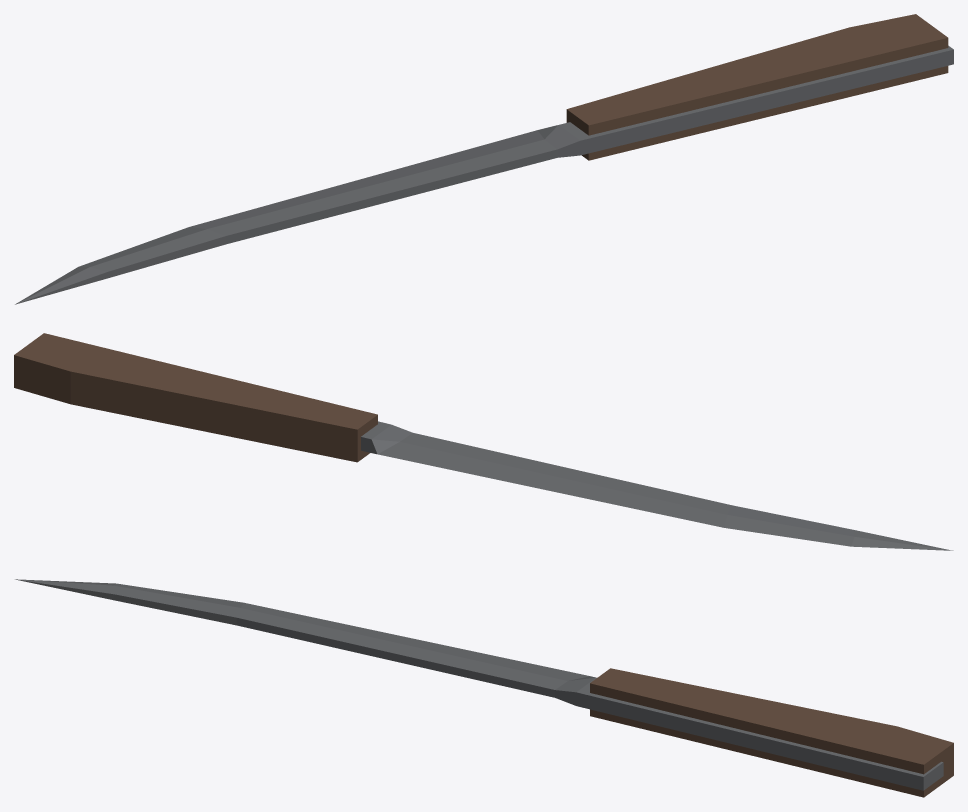
Rendered from filletKnife.fbx.
3 renders of one model, top to bottom at view 1: azimuth 30°, elevation 25°; view 2: azimuth 150°, elevation 25°; view 3: azimuth 330°, elevation 25°, orthographic. The views are drawn at different scales.
Visible parts, largest first — view 1: filletKnife; view 2: filletKnife; view 3: filletKnife.
Part boxes in pixels (x1=…): filletKnife: x1=15, y1=14, x2=953, y2=304; filletKnife: x1=14, y1=333, x2=953, y2=550; filletKnife: x1=15, y1=579, x2=953, y2=797.
Size of the model in its own units: 56.26 by 1.98 by 5.86.
Materials: 1 (1 with a texture image).
